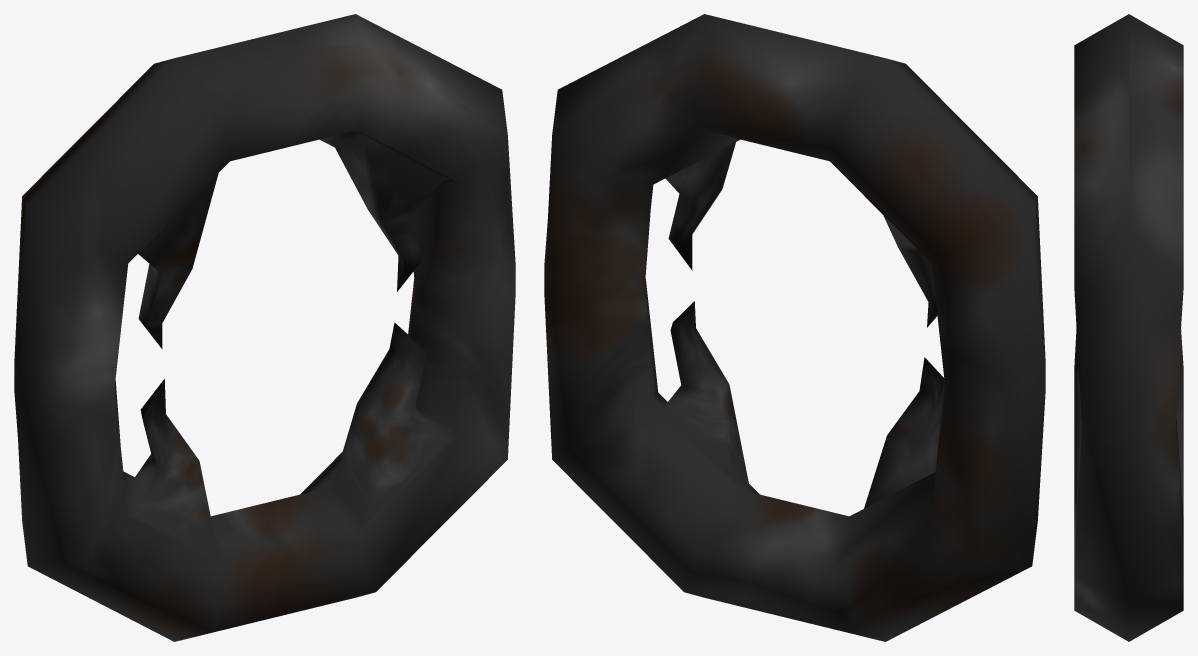
Rendered from threshold.fbx.
3 renders of one model, left to right at view 1: azimuth 30°, elevation 25°; view 2: azimuth 150°, elevation 25°; view 3: azimuth 270°, elevation 25°, orthographic. The views are drawn at different scales.
Parts seen in each view (by area): view 1: threshold; view 2: threshold; view 3: threshold.
Boxes of the visible parts, x1,y1,x2,y2 form: threshold: (14, 14, 515, 641); threshold: (544, 14, 1045, 641); threshold: (1074, 14, 1183, 641).
Size of the model in its own units: 3137 by 3489 by 635.
Materials: 1 (1 with a texture image).
